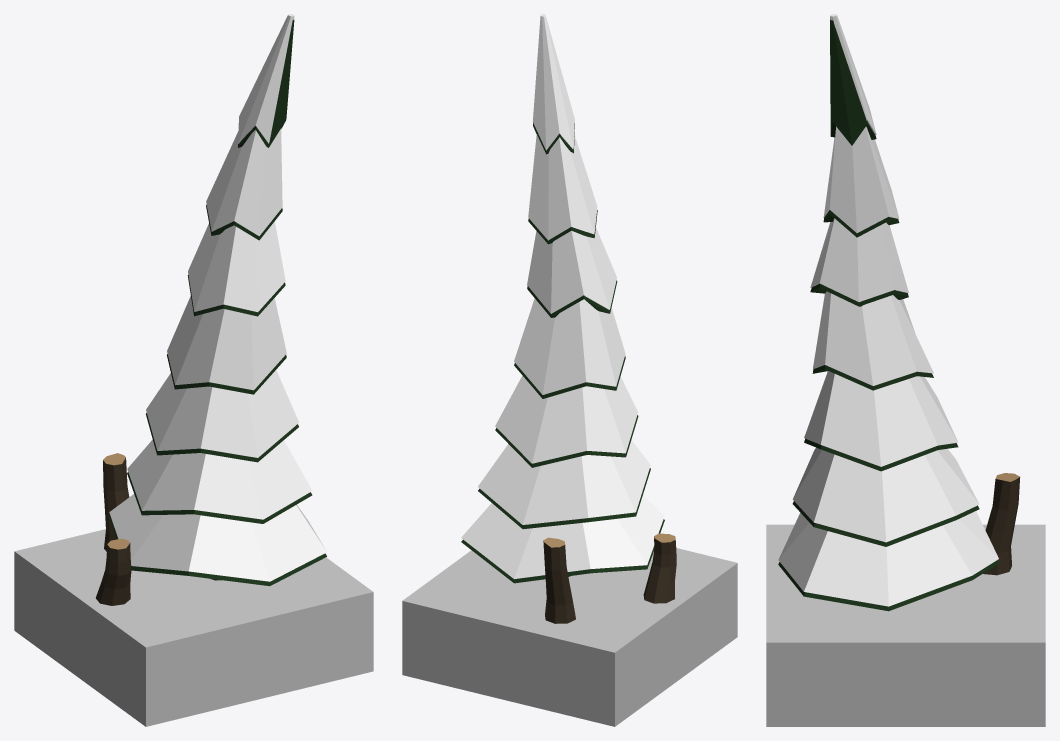
The model's file is Tile_Tree_4.obj.
3 views of the same model, side by side, from view 1: azimuth 30°, elevation 25°; view 2: azimuth 150°, elevation 25°; view 3: azimuth 270°, elevation 25° (orthographic). The views are drawn at different scales.
Visible parts, largest first — view 1: Cylinder.000_Cylinder.004, Cube, Cylinder.001_Cylinder.000, Cylinder.003, Cylinder_Cylinder.005; view 2: Cylinder.000_Cylinder.004, Cube, Cylinder.001_Cylinder.000, Cylinder_Cylinder.005, Cylinder.003; view 3: Cylinder.000_Cylinder.004, Cube, Cylinder.001_Cylinder.000, Cylinder_Cylinder.005.
Part boxes in pixels (<box>): Cylinder.000_Cylinder.004: <box>109,14,326,581</box>; Cube: <box>14,529,373,726</box>; Cylinder.001_Cylinder.000: <box>109,20,326,586</box>; Cylinder.003: <box>96,538,131,605</box>; Cylinder_Cylinder.005: <box>103,453,129,551</box>; Cylinder.000_Cylinder.004: <box>461,14,664,579</box>; Cube: <box>402,548,737,726</box>; Cylinder.001_Cylinder.000: <box>461,123,664,583</box>; Cylinder_Cylinder.005: <box>543,537,575,623</box>; Cylinder.003: <box>643,533,676,603</box>; Cylinder.000_Cylinder.004: <box>778,14,998,606</box>; Cube: <box>766,524,1045,726</box>; Cylinder.001_Cylinder.000: <box>778,19,998,611</box>; Cylinder_Cylinder.005: <box>983,473,1020,575</box>.
Size of the model in its own units: 3 by 8.13 by 3.
